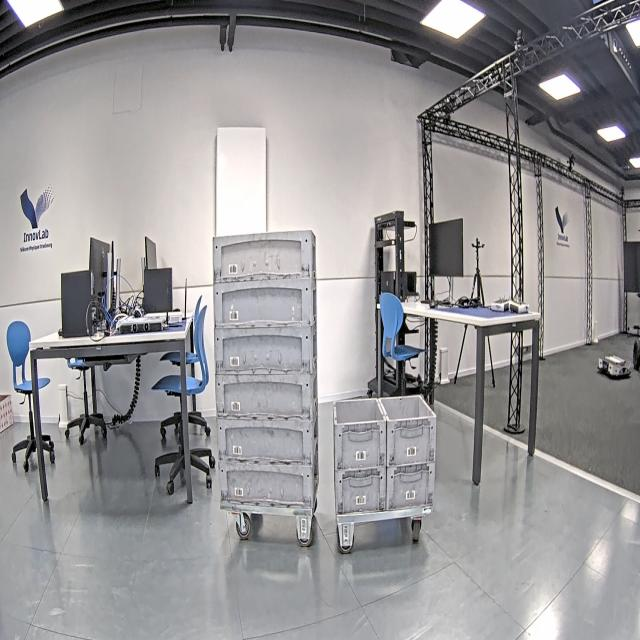Box3G: (212, 229, 314, 281), (215, 373, 319, 420), (213, 280, 318, 326), (219, 461, 319, 508), (213, 328, 319, 372), (217, 420, 319, 464)
Box8G: (381, 398, 437, 464), (333, 402, 386, 467), (335, 468, 386, 516), (386, 466, 434, 509)
